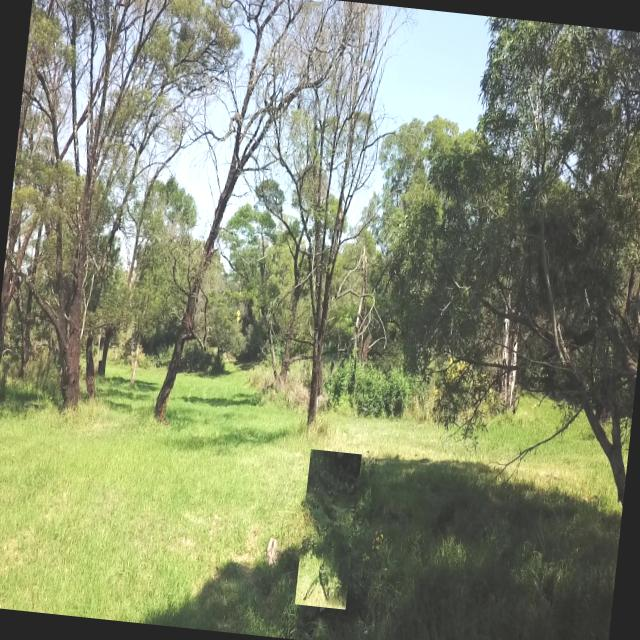Mysore-Thorn-Weed: (294, 449, 361, 609)
